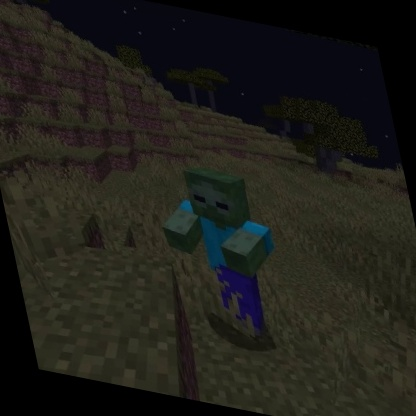zombie: (144, 152, 298, 348)
